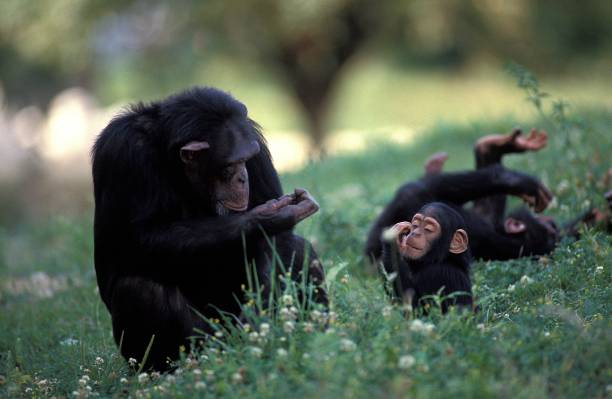chimpanzee: (162, 80, 285, 234), (402, 185, 474, 282)
